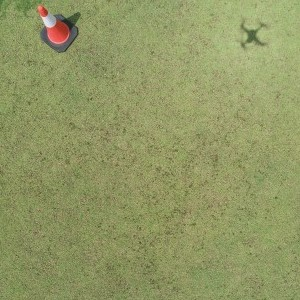traffic cone: (37, 5, 78, 52)
